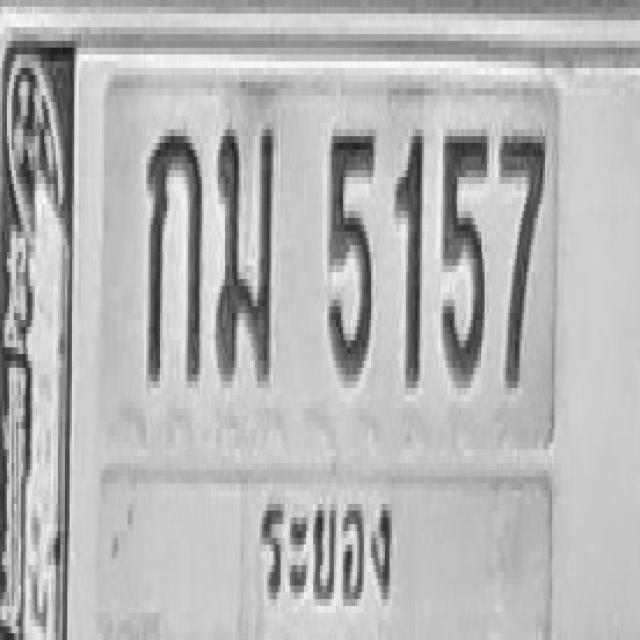1: (393, 126, 423, 385)
10GorGai: (146, 123, 202, 381)
42MorMa: (214, 119, 275, 385)
5: (327, 126, 376, 378), (442, 126, 488, 385)
7: (498, 129, 545, 388)
Rayong: (249, 477, 401, 620)
